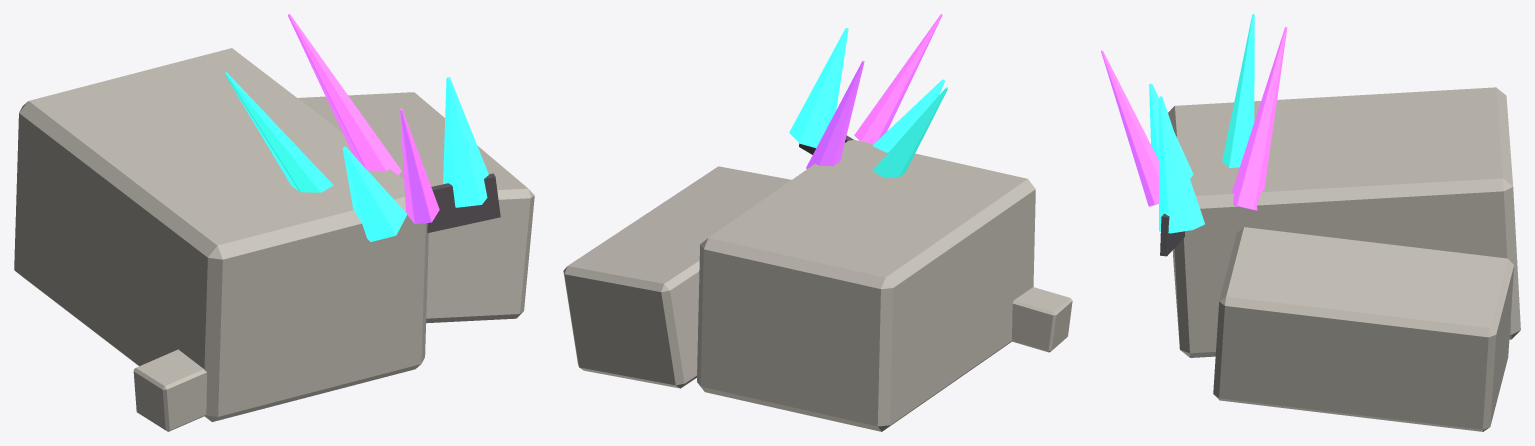
Rendered from runtime.glb.
3 renders of one model, left to right at view 1: azimuth 30°, elevation 25°; view 2: azimuth 150°, elevation 25°; view 3: azimuth 270°, elevation 25°, orthographic. The views are drawn at different scales.
Parts seen in each view (by area): view 1: crystal-ruins-crystal-growth-v02_stone_00_nocol, crystal-ruins-crystal-growth-v02_stone_01_nocol, crystal-ruins-crystal-growth-v02_stone_11_nocol, crystal-ruins-crystal-growth-v02_crystal_00_nocol, crystal-ruins-crystal-growth-v02_crystal_01_nocol, crystal-ruins-crystal-growth-v02_crystal_03_nocol, crystal-ruins-crystal-growth-v02_crystal_02_nocol, crystal-ruins-crystal-growth-v02_crystal_04_nocol, crystal-ruins-crystal-growth-v02_fracture_01_nocol; view 2: crystal-ruins-crystal-growth-v02_stone_00_nocol, crystal-ruins-crystal-growth-v02_stone_01_nocol, crystal-ruins-crystal-growth-v02_stone_11_nocol, crystal-ruins-crystal-growth-v02_crystal_00_nocol, crystal-ruins-crystal-growth-v02_crystal_04_nocol, crystal-ruins-crystal-growth-v02_crystal_01_nocol, crystal-ruins-crystal-growth-v02_crystal_02_nocol, crystal-ruins-crystal-growth-v02_crystal_03_nocol; view 3: crystal-ruins-crystal-growth-v02_stone_01_nocol, crystal-ruins-crystal-growth-v02_stone_00_nocol, crystal-ruins-crystal-growth-v02_crystal_00_nocol, crystal-ruins-crystal-growth-v02_crystal_01_nocol, crystal-ruins-crystal-growth-v02_crystal_02_nocol, crystal-ruins-crystal-growth-v02_crystal_04_nocol, crystal-ruins-crystal-growth-v02_crystal_03_nocol, crystal-ruins-crystal-growth-v02_fracture_01_nocol.
Boxes of the visible parts, <box> form: crystal-ruins-crystal-growth-v02_stone_00_nocol: <box>14,48,428,421</box>; crystal-ruins-crystal-growth-v02_stone_01_nocol: <box>298,92,534,323</box>; crystal-ruins-crystal-growth-v02_stone_11_nocol: <box>133,349,206,431</box>; crystal-ruins-crystal-growth-v02_crystal_00_nocol: <box>443,77,488,207</box>; crystal-ruins-crystal-growth-v02_crystal_01_nocol: <box>288,14,401,175</box>; crystal-ruins-crystal-growth-v02_crystal_03_nocol: <box>342,146,407,241</box>; crystal-ruins-crystal-growth-v02_crystal_02_nocol: <box>225,72,333,192</box>; crystal-ruins-crystal-growth-v02_crystal_04_nocol: <box>400,108,439,223</box>; crystal-ruins-crystal-growth-v02_fracture_01_nocol: <box>427,173,500,232</box>; crystal-ruins-crystal-growth-v02_stone_00_nocol: <box>697,140,1035,431</box>; crystal-ruins-crystal-growth-v02_stone_01_nocol: <box>563,166,791,388</box>; crystal-ruins-crystal-growth-v02_stone_11_nocol: <box>1011,287,1072,352</box>; crystal-ruins-crystal-growth-v02_crystal_00_nocol: <box>789,28,848,147</box>; crystal-ruins-crystal-growth-v02_crystal_04_nocol: <box>854,14,942,143</box>; crystal-ruins-crystal-growth-v02_crystal_01_nocol: <box>806,60,864,168</box>; crystal-ruins-crystal-growth-v02_crystal_02_nocol: <box>872,87,947,177</box>; crystal-ruins-crystal-growth-v02_crystal_03_nocol: <box>872,79,944,152</box>; crystal-ruins-crystal-growth-v02_stone_01_nocol: <box>1213,227,1513,431</box>; crystal-ruins-crystal-growth-v02_stone_00_nocol: <box>1168,87,1520,357</box>; crystal-ruins-crystal-growth-v02_crystal_00_nocol: <box>1159,96,1204,233</box>; crystal-ruins-crystal-growth-v02_crystal_01_nocol: <box>1232,27,1287,210</box>; crystal-ruins-crystal-growth-v02_crystal_02_nocol: <box>1222,14,1254,167</box>; crystal-ruins-crystal-growth-v02_crystal_04_nocol: <box>1101,50,1158,206</box>; crystal-ruins-crystal-growth-v02_crystal_03_nocol: <box>1149,83,1193,178</box>; crystal-ruins-crystal-growth-v02_fracture_01_nocol: <box>1160,213,1184,256</box>.
Size of the model in its own units: 4.37 by 3.28 by 4.05.
